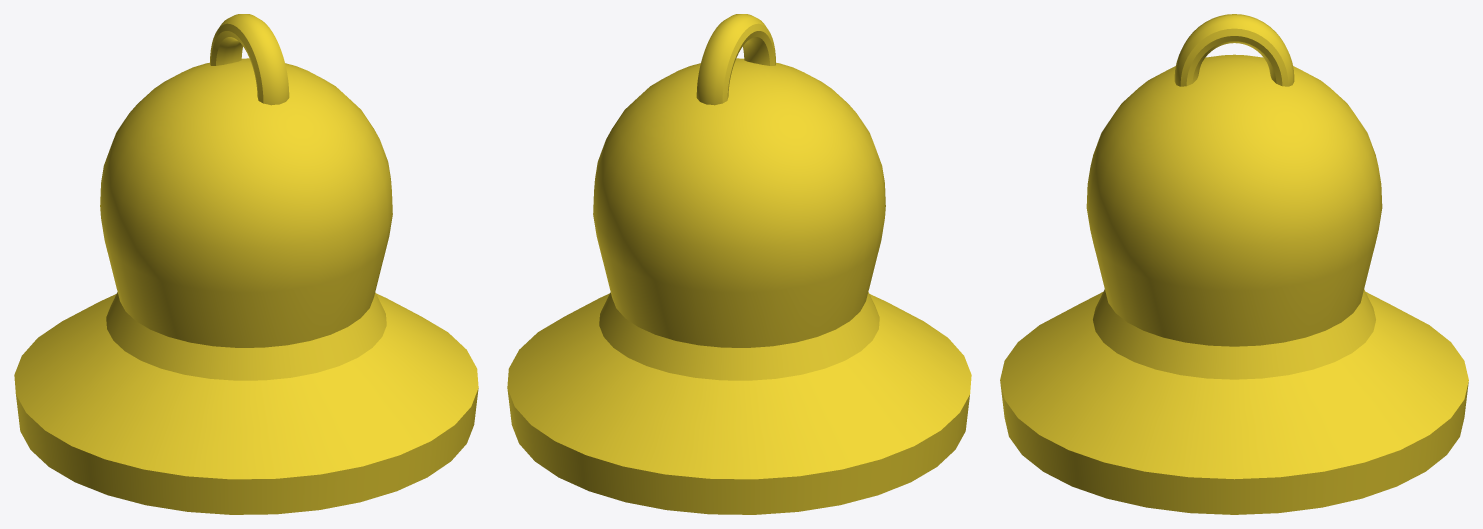
Rendered from bell.fbx.
3 renders of one model, left to right at view 1: azimuth 30°, elevation 25°; view 2: azimuth 150°, elevation 25°; view 3: azimuth 270°, elevation 25°, orthographic.
Parts seen in each view (by area): view 1: bell; view 2: bell; view 3: bell.
Part boxes in pixels (bbox=[...]): bell: bbox=[14, 14, 478, 514]; bell: bbox=[507, 14, 971, 514]; bell: bbox=[1000, 14, 1468, 514].
Bounding box in the file's own units: 228 × 235 × 228.
